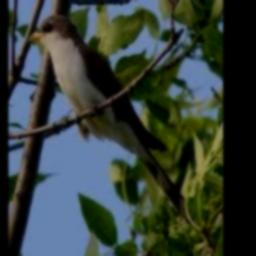Cuckoo: (28, 15, 196, 227)
